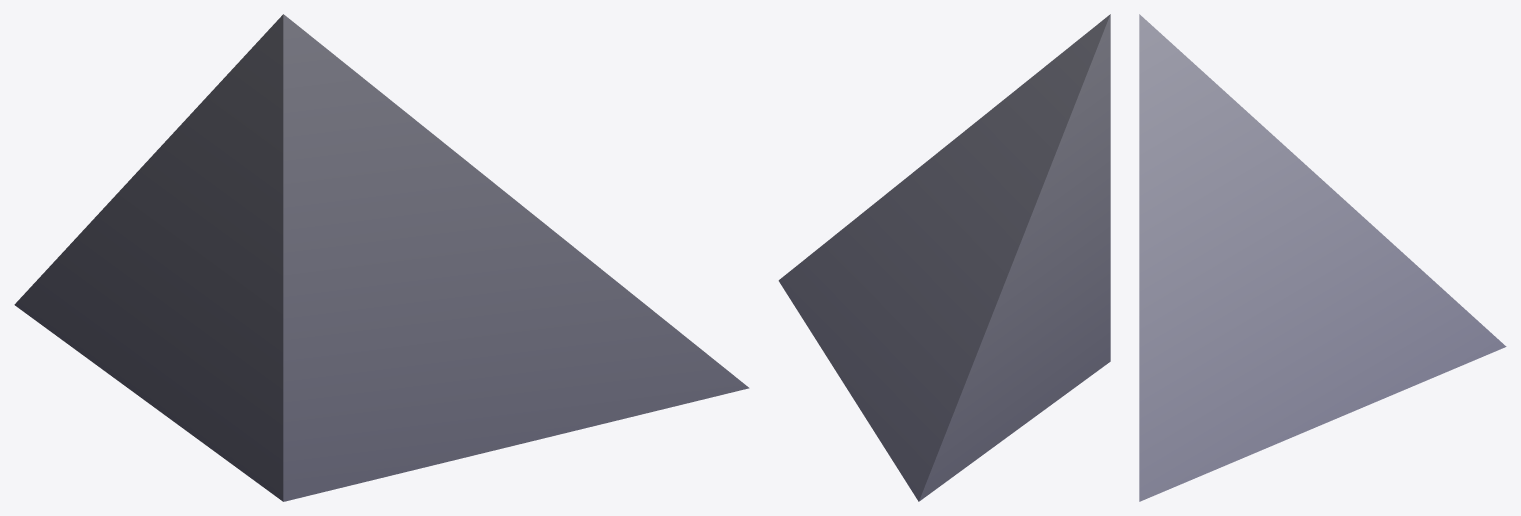
Rendered from steel-corner.glb.
3 views of the same model, side by side, from view 1: azimuth 30°, elevation 25°; view 2: azimuth 150°, elevation 25°; view 3: azimuth 270°, elevation 25° (orthographic). The views are drawn at different scales.
Parts seen in each view (by area): view 1: steel-corner; view 2: steel-corner; view 3: steel-corner.
Boxes of the visible parts, x1,y1,x2,y2 form: steel-corner: [14, 14, 749, 501]; steel-corner: [778, 14, 1110, 501]; steel-corner: [1139, 14, 1506, 501].
Bounding box in the file's own units: 1 × 1 × 1.
